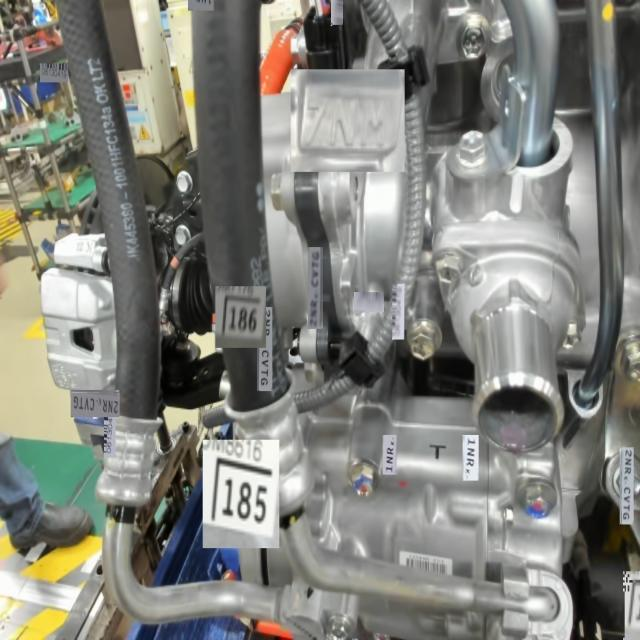Compressor-T: (421, 434, 450, 470)
Engine Assy-185: (208, 449, 274, 541)
Engine Assy-186: (220, 292, 259, 341)
Transaxele-7NM: (304, 94, 391, 154)
